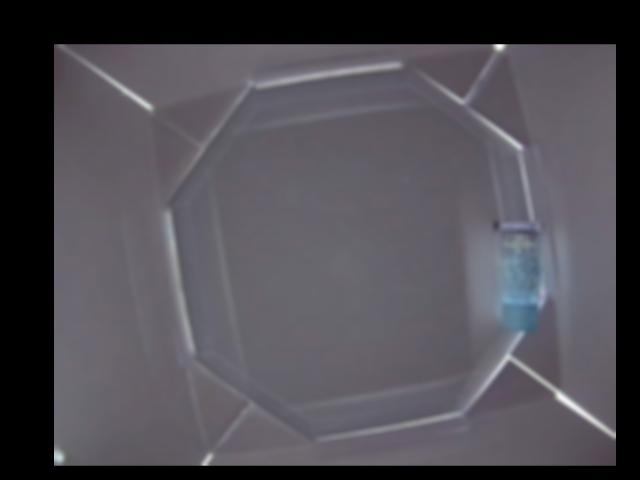Bottle: (498, 219, 543, 333)
